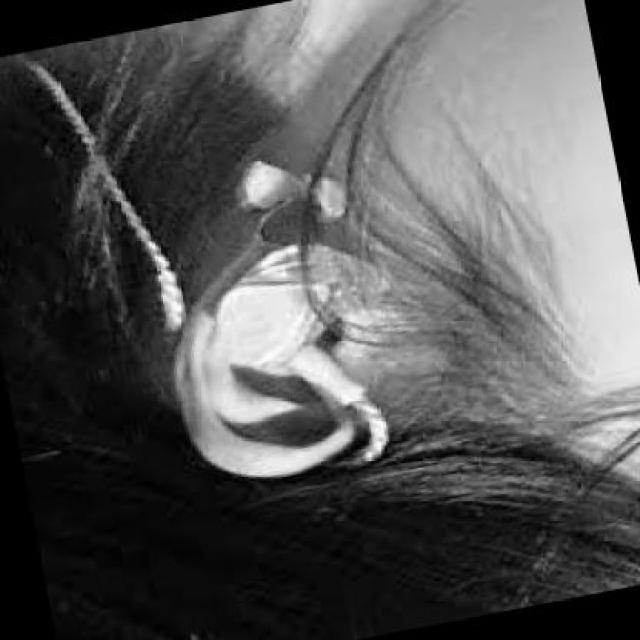earphone: (190, 243, 380, 430)
